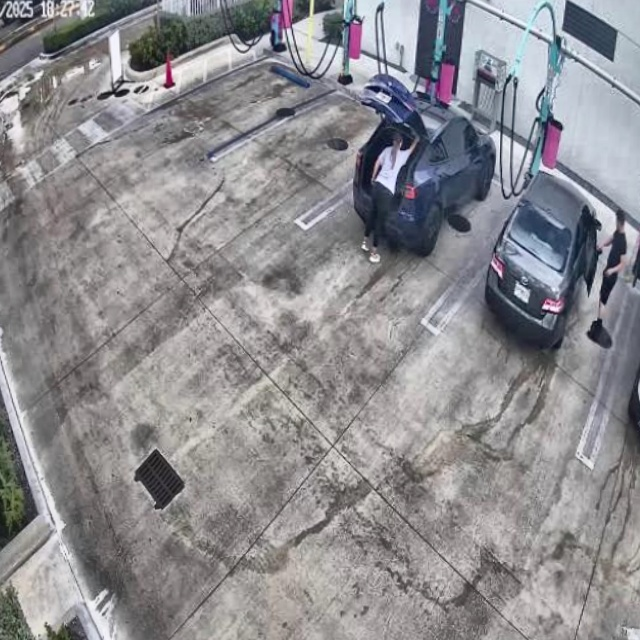Car: (354, 74, 498, 247)
